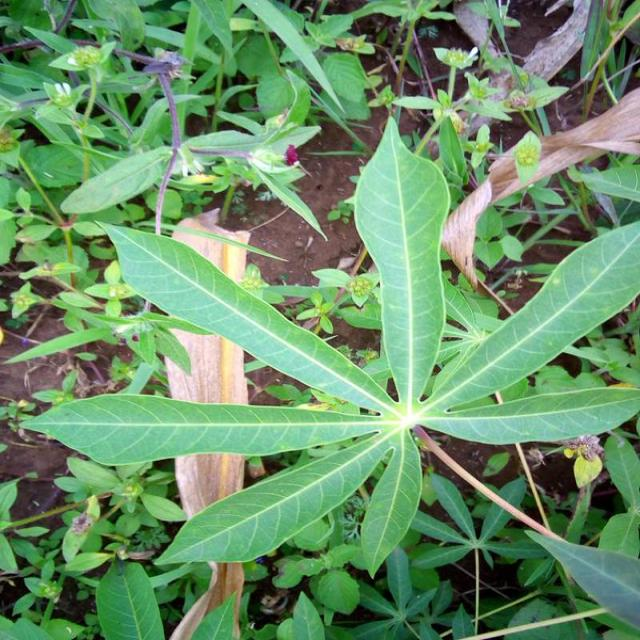cassava leaf: (94, 218, 399, 416), (422, 219, 638, 414), (352, 114, 450, 408)
